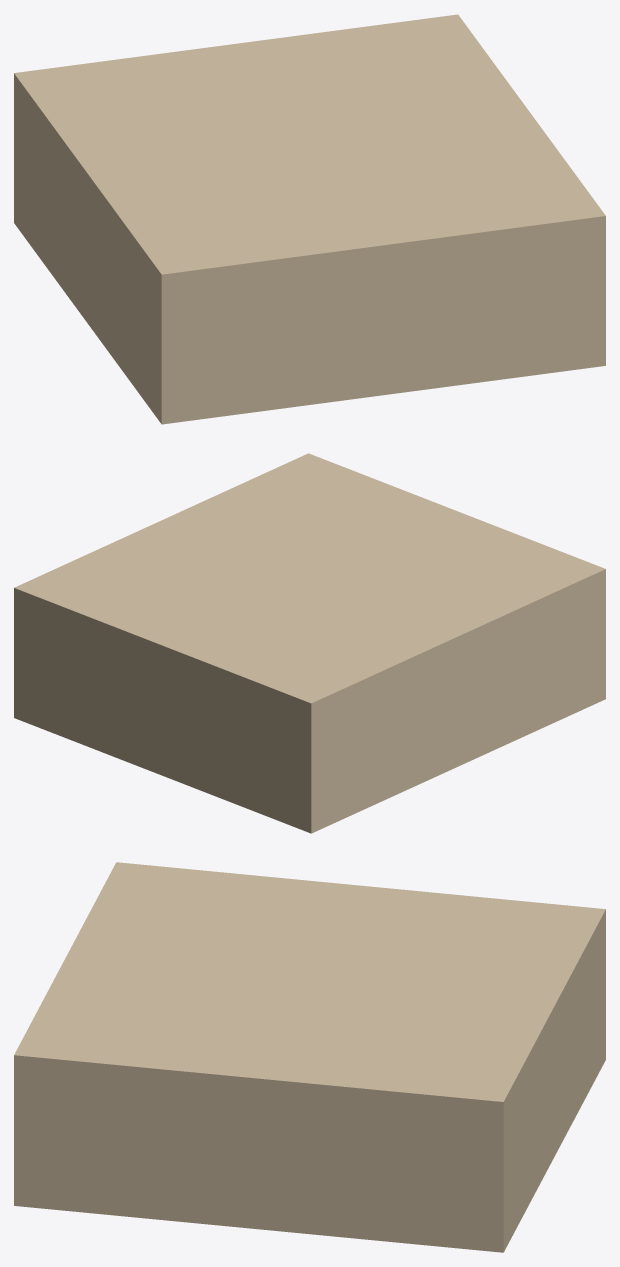
The model's file is 12_4-estimated-coarse.glb.
The picture shows the model from 3 angles, top to bottom: view 1: azimuth 30°, elevation 25°; view 2: azimuth 150°, elevation 25°; view 3: azimuth 270°, elevation 25°; orthographic projection. The views are drawn at different scales.
Size of the model in its own units: 40.97 by 12 by 42.72.
